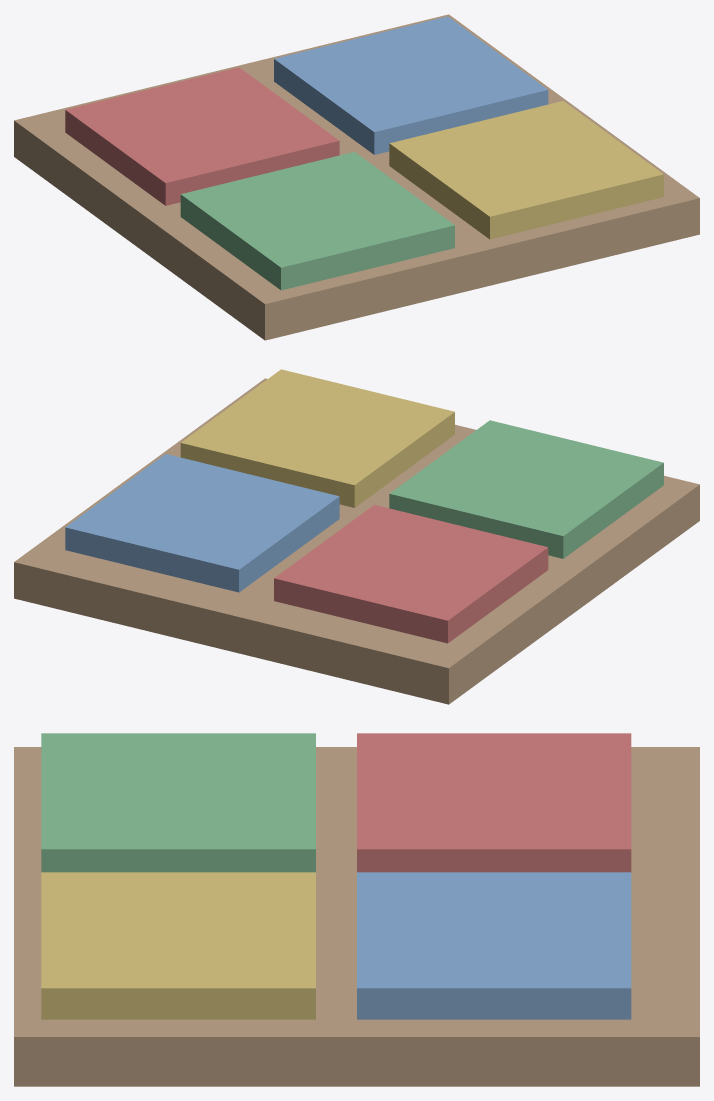
File: kid_quebra_cabeca.glb
3 views of the same model, one above another, from view 1: azimuth 30°, elevation 25°; view 2: azimuth 150°, elevation 25°; view 3: azimuth 270°, elevation 25° (orthographic). The views are drawn at different scales.
Visible parts, largest first — view 1: KID_QUEBRA_CABECA_v01; view 2: KID_QUEBRA_CABECA_v01; view 3: KID_QUEBRA_CABECA_v01.
Part boxes in pixels (box(x1,y1,x2,y2)): KID_QUEBRA_CABECA_v01: box(14, 14, 699, 340); KID_QUEBRA_CABECA_v01: box(14, 369, 699, 704); KID_QUEBRA_CABECA_v01: box(14, 733, 699, 1086).
Size of the model in its own units: 0.5 by 0.065 by 0.5.
